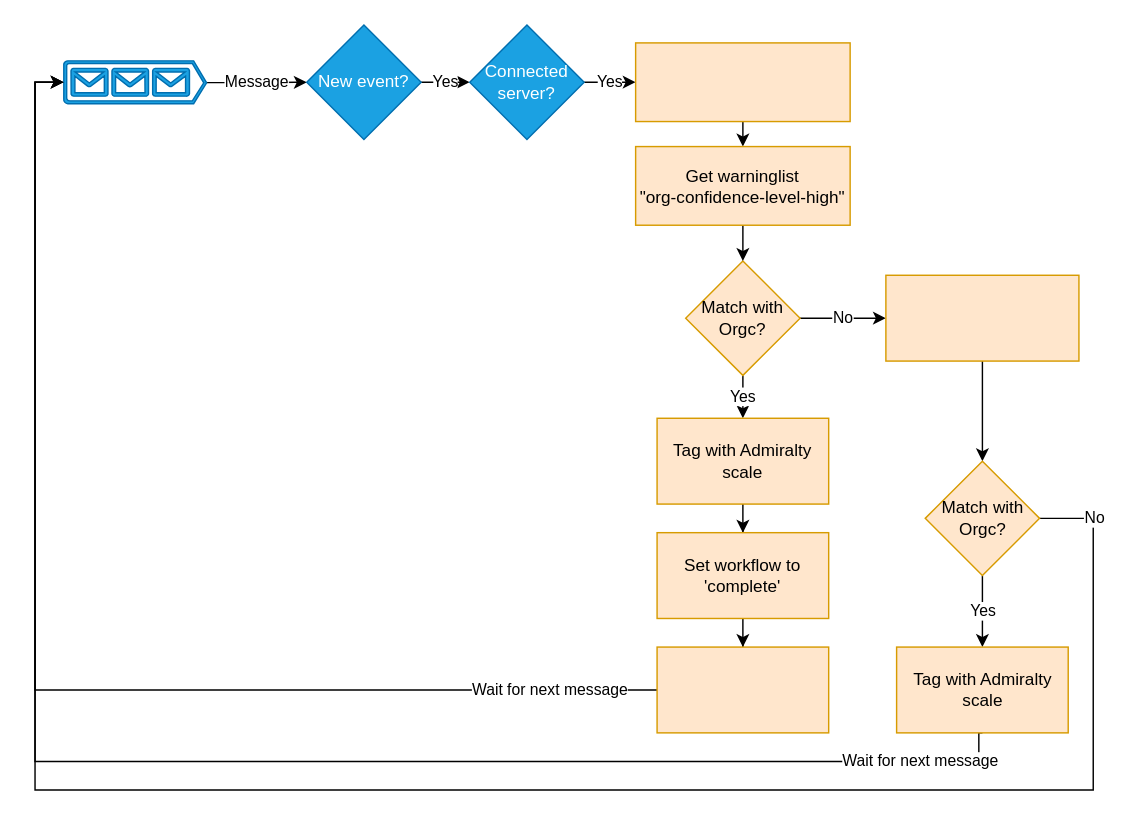
The diagram is 1130 pixels wide and 827 high, and some of its shapes have lost their labels. The box of each missing label's shape, as (x1, y1, x2, y2) in pixels:
Get all warninglists for confidence levels: (634, 41, 850, 122)
Get warninglist "org-confidence-level-medium": (884, 274, 1079, 361)
Publish event: (656, 646, 829, 733)
ZeroMQ: (62, 59, 207, 104)
